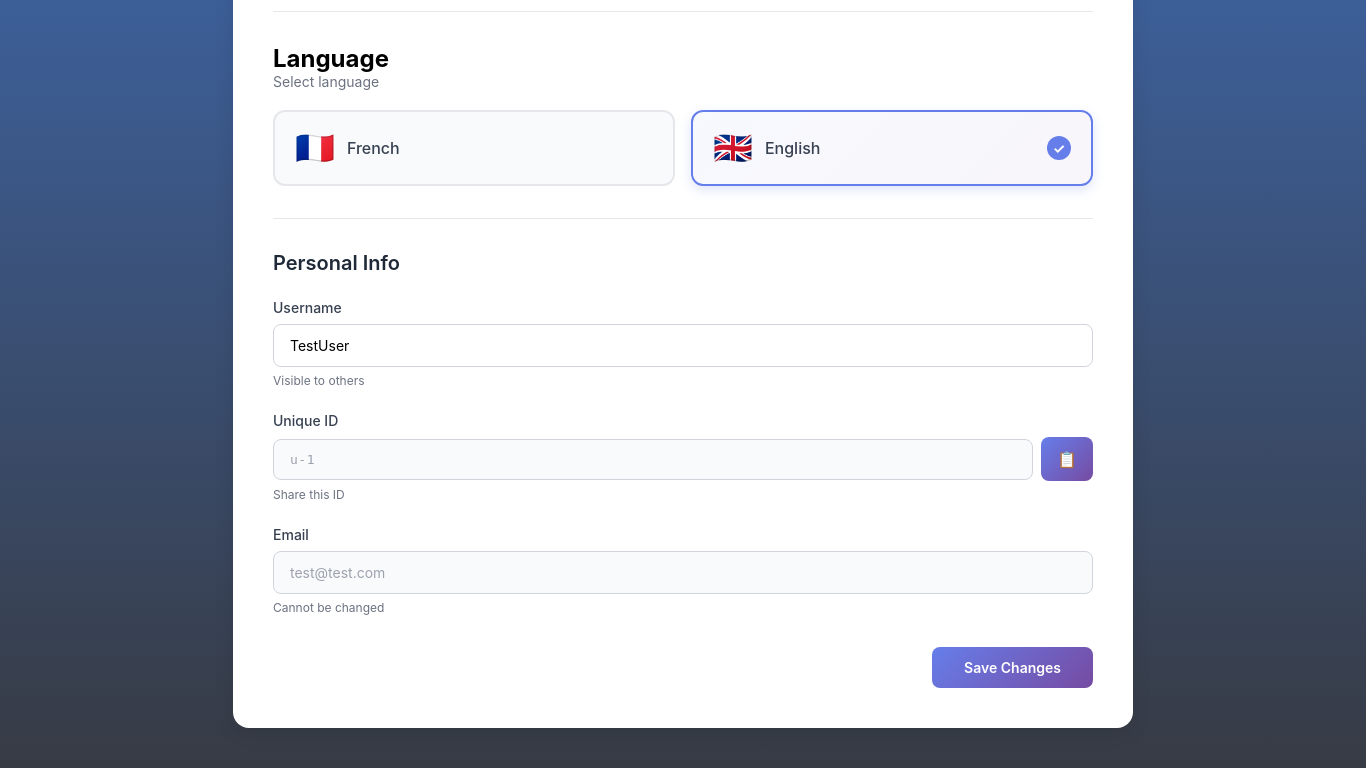
it: SettingsPage › should handle save error
The image size is (1366, 768).
(page scrolled)
Expected: the field showing "TestUser" is shown, [273,324,1093,367]
Click the button "Save Changes" at coordinates (1013, 668), box [932,647,1093,688]
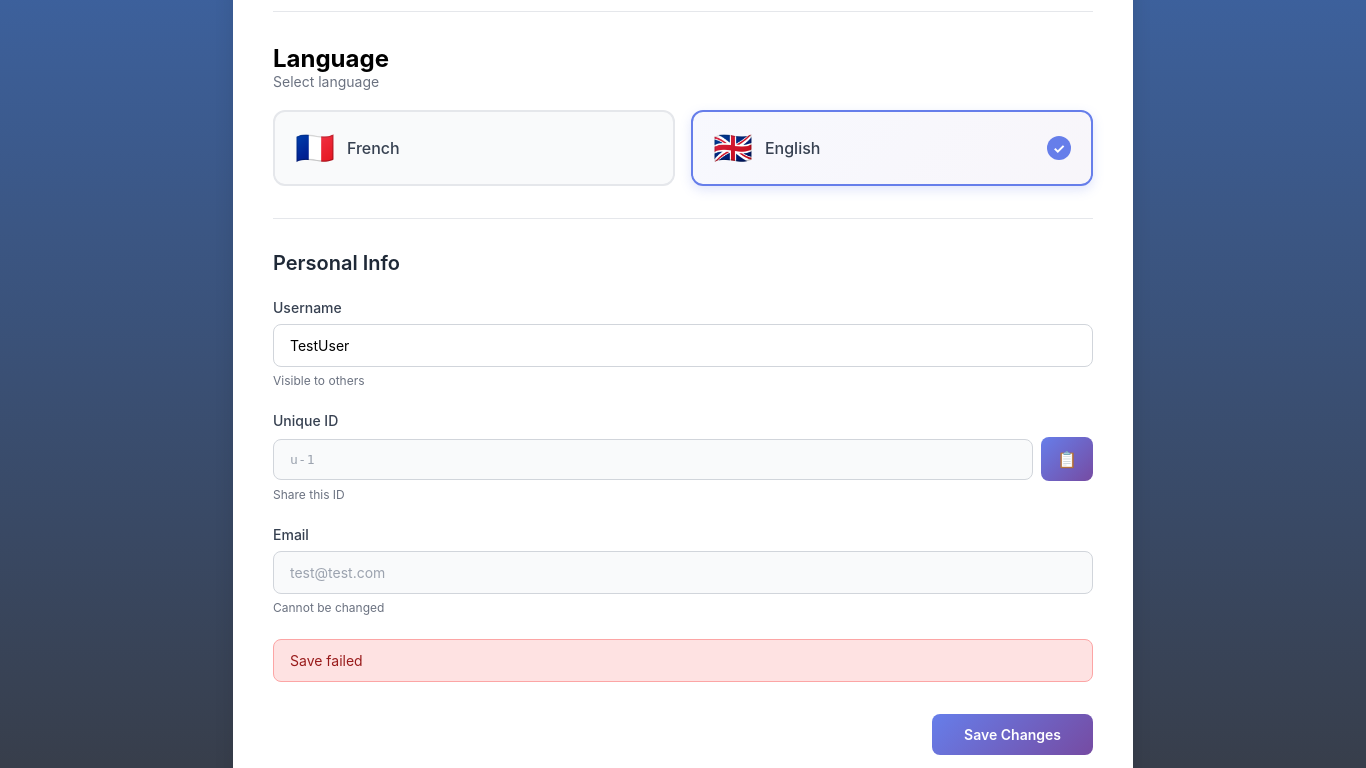
Expected: the text "Save failed" is shown, [273,639,1093,682]
